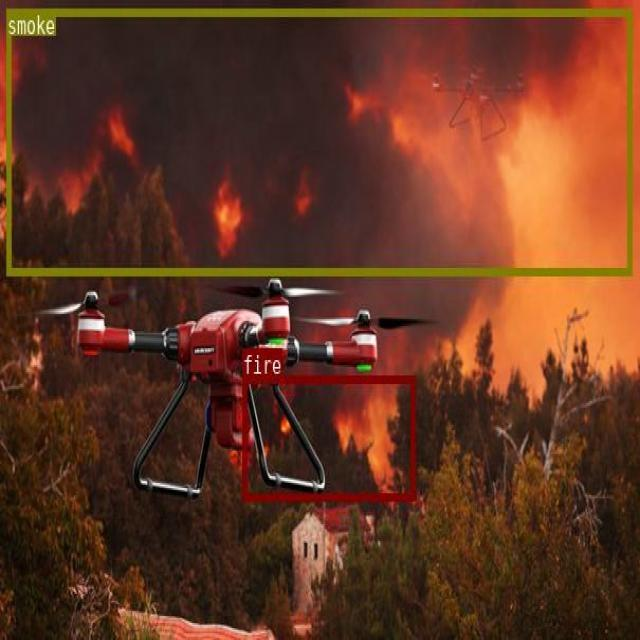fire: (242, 374, 414, 500)
smoke: (6, 9, 632, 274)
